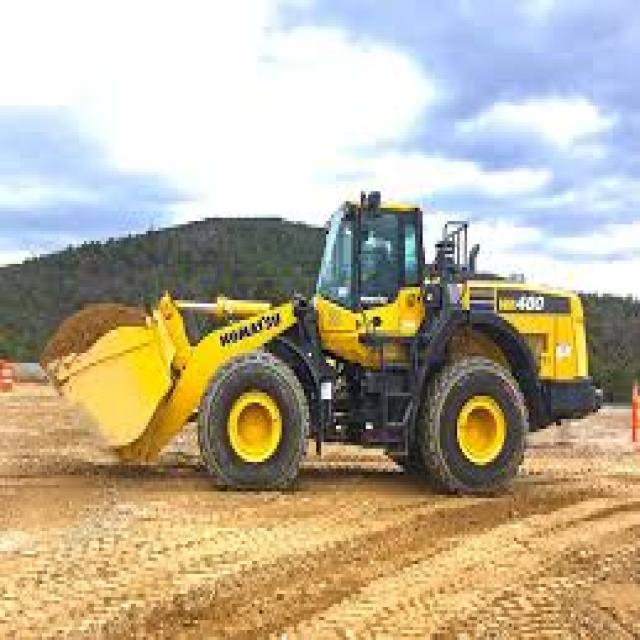bull_dozer/loader/grader: (46, 186, 604, 502)
